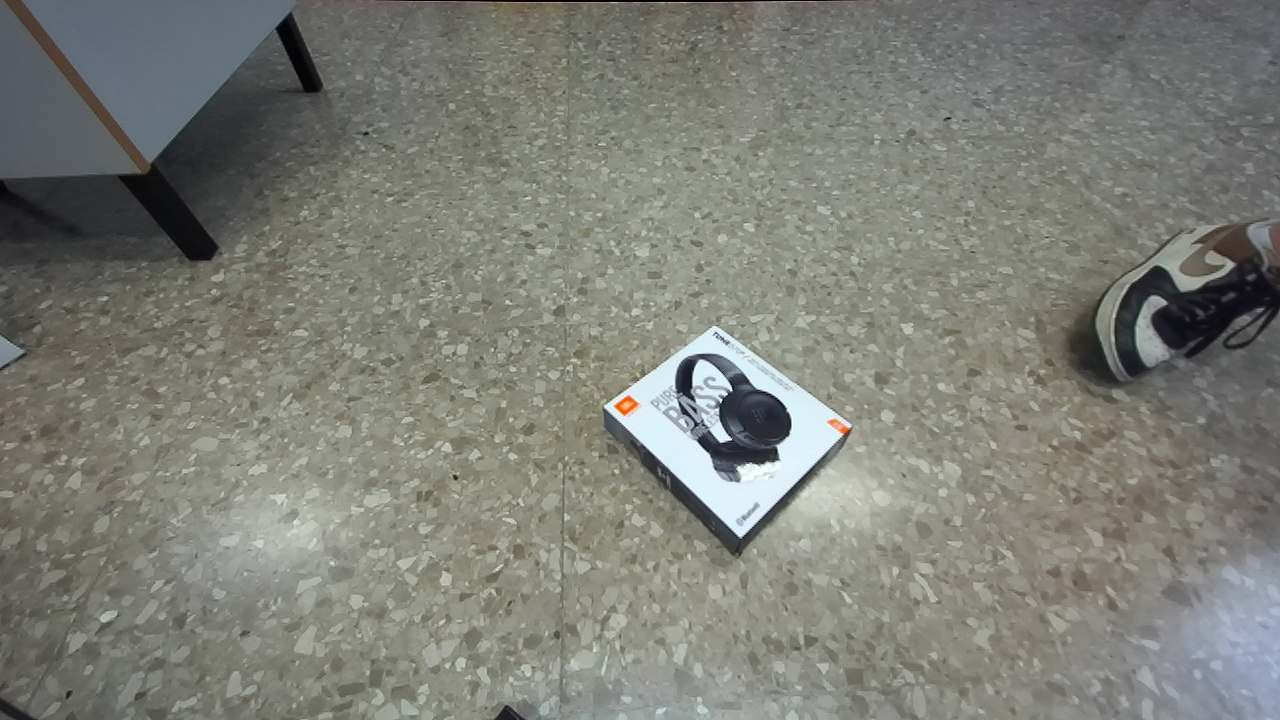caja_chasis: (603, 326, 850, 554)
